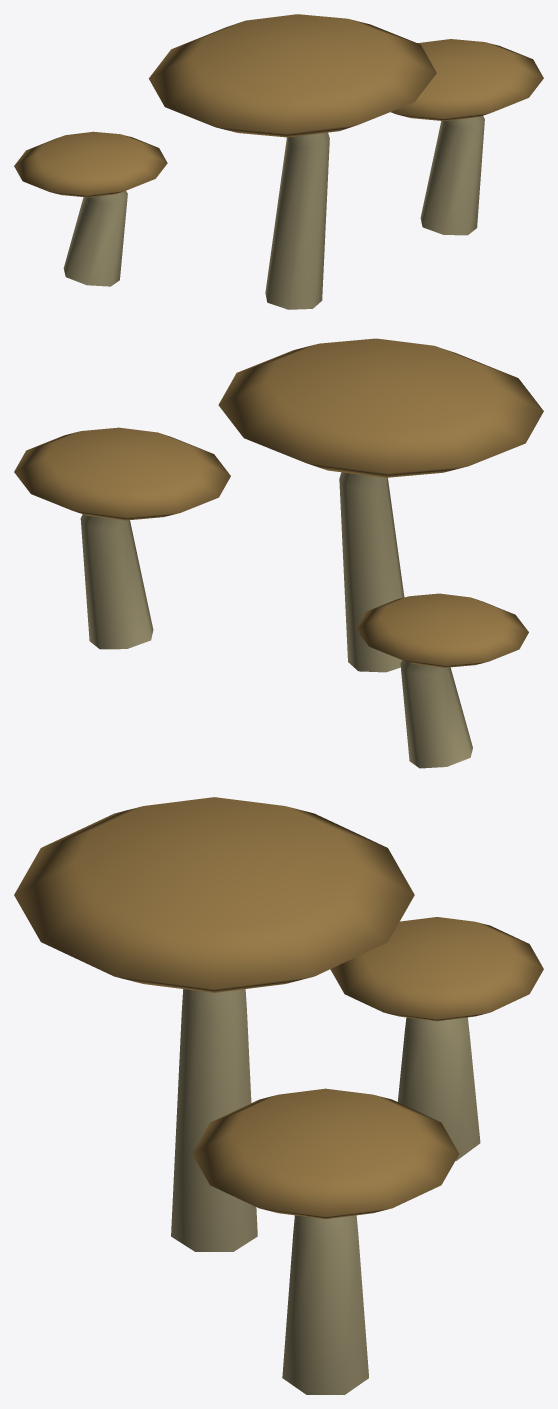
File: source_4.glb
The picture shows the model from 3 angles, top to bottom: view 1: azimuth 30°, elevation 25°; view 2: azimuth 150°, elevation 25°; view 3: azimuth 270°, elevation 25°; orthographic projection. The views are drawn at different scales.
Visible parts, largest first — view 1: Curved mushroom stalk; view 2: Curved mushroom stalk; view 3: Curved mushroom stalk.
Part boxes in pixels (x1,y1,x2,y2): Curved mushroom stalk: (14,14,543,309); Curved mushroom stalk: (14,338,543,768); Curved mushroom stalk: (14,797,543,1394).
Size of the model in its own units: 2.22 by 1.15 by 1.43.
